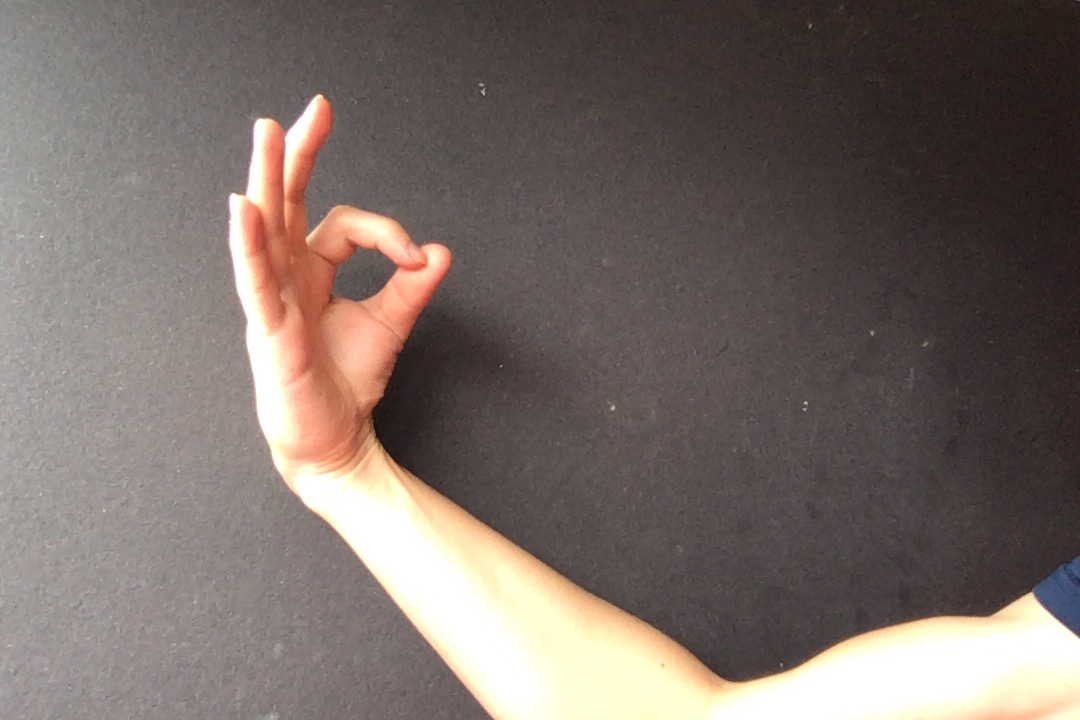oksign: (211, 89, 455, 480)
